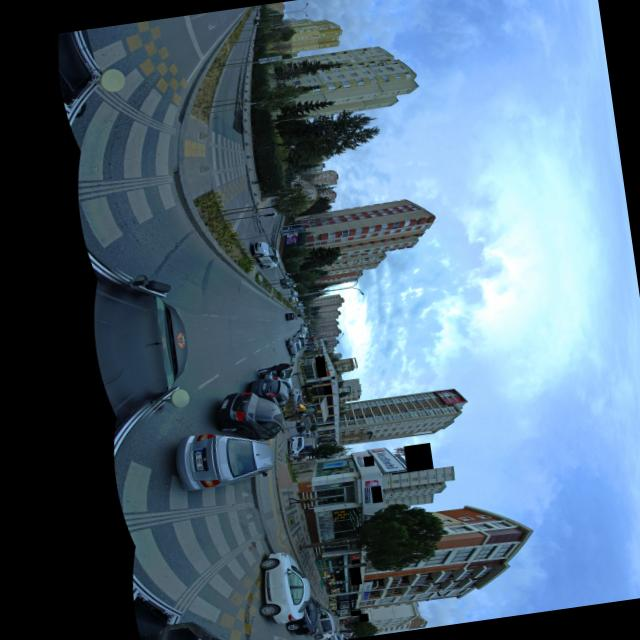SignStore: (388, 446, 433, 473), (365, 448, 406, 474), (314, 357, 326, 378), (348, 568, 359, 586), (370, 486, 380, 503), (363, 456, 373, 467), (323, 385, 331, 395), (350, 610, 360, 617), (359, 614, 367, 622), (351, 560, 359, 564)
